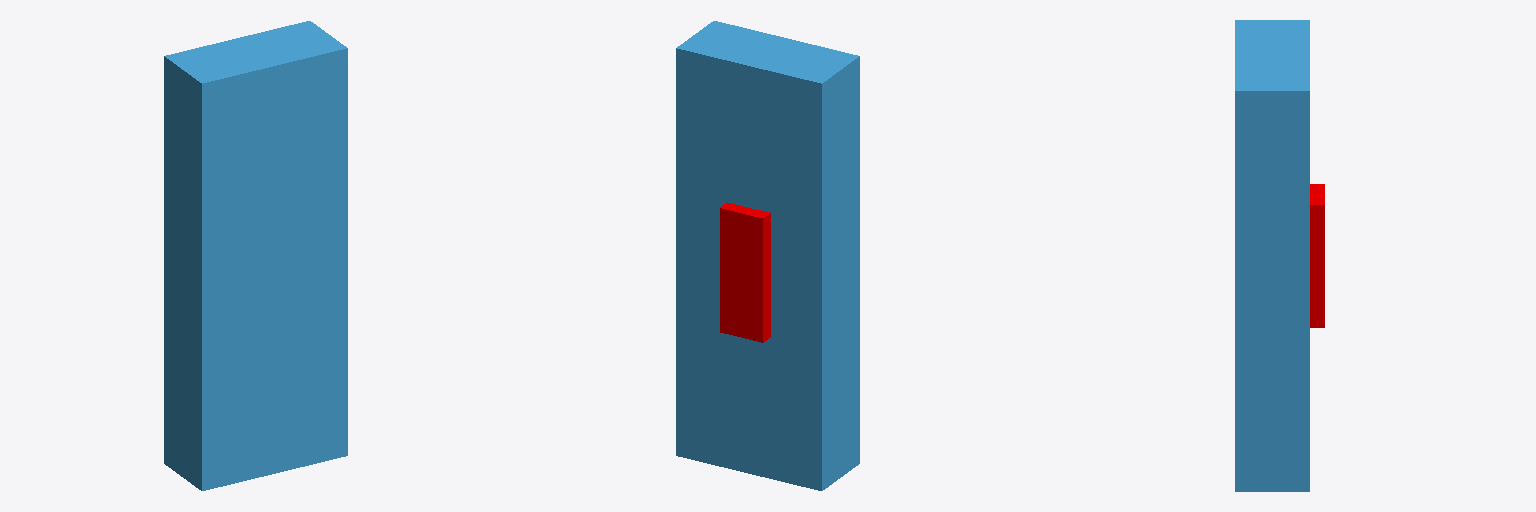
The robot description file, URDF, robot "knife":
<?xml version='1.0' encoding='utf-8'?>
<robot name="knife">
  <link name="link_1">
    <visual name="link_1">
      <origin xyz="0 0.010463 0" rpy="0 0 0" />
      <geometry>
        <box size="0.011595346035271481 0.003529816176018657 0.03150709360786475" /></geometry>
    <material name="red"><color rgba="1 0 0 1" /></material></visual>
    <collision>
      <origin xyz="0 0.010463 0" rpy="0 0 0" />
      <geometry>
        <box size="0.011595346035271481 0.003529816176018657 0.03150709360786475" /></geometry>
    </collision>
    </link>
  <joint name="joint_1" type="prismatic">
    <origin xyz="0 0 0" />
    <axis xyz="0 0 1" />
    <child link="link_1" />
    <parent link="link_0" />
    <limit lower="-0.017747" upper="0.032253" effort="100.0" velocity="1.0" />
  </joint>
  <link name="link_0">
    <visual name="link_0">
      <origin xyz="0 0 0" />
      <geometry>
        <box size="0.038701920406216665 0.01739552454816711 0.10335478527247274" /></geometry>
    </visual>
    <collision>
      <origin xyz="0 0 0" />
      <geometry>
        <box size="0.038701920406216665 0.01739552454816711 0.10335478527247274" /></geometry>
    </collision>
    </link>
</robot>

--- Render facts (derived) ---
Views: 3 orthographic renders of the robot side by side, from view 1: azimuth 30°, elevation 25°; view 2: azimuth 150°, elevation 25°; view 3: azimuth 270°, elevation 25°.
Robot: knife — 2 links, 1 joints (1 prismatic); root link link_0; default pose: all joints at 0.
Visible links, largest first — view 1: link_0; view 2: link_0, link_1; view 3: link_0, link_1.
Boxes of the visible links, x1,y1,x2,y2 form: link_0: (164,21,347,490); link_0: (676,21,859,490); link_1: (720,202,770,342); link_0: (1235,20,1309,491); link_1: (1310,184,1324,327).
Bounding box of the posed robot: 0.0387 × 0.0209 × 0.1034 m (x, y, z).
Geometry: primitives only (box / cylinder / sphere), no mesh files.
